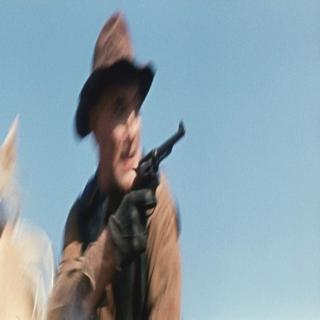gun: (126, 113, 186, 260)
